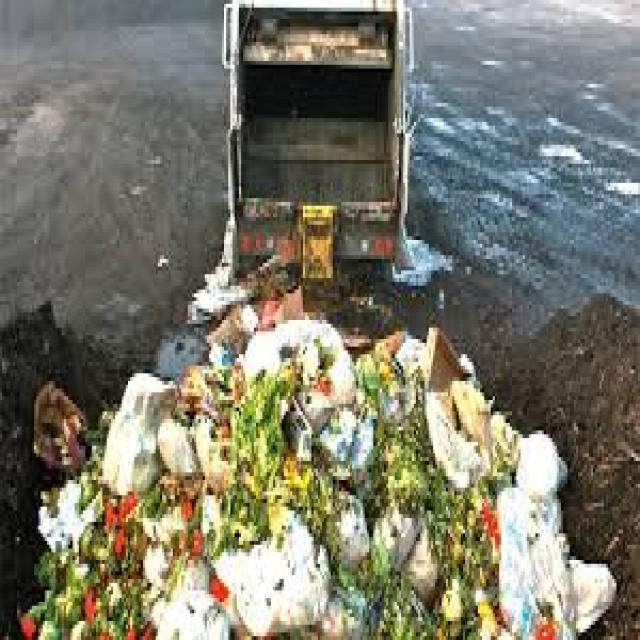Organic: (29, 471, 493, 640), (171, 368, 436, 474)
